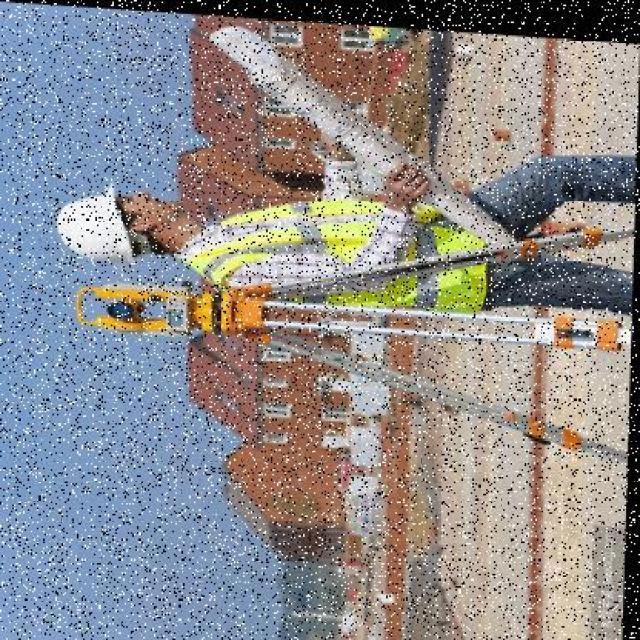helmet: (52, 176, 156, 266)
vest: (174, 174, 508, 294)
